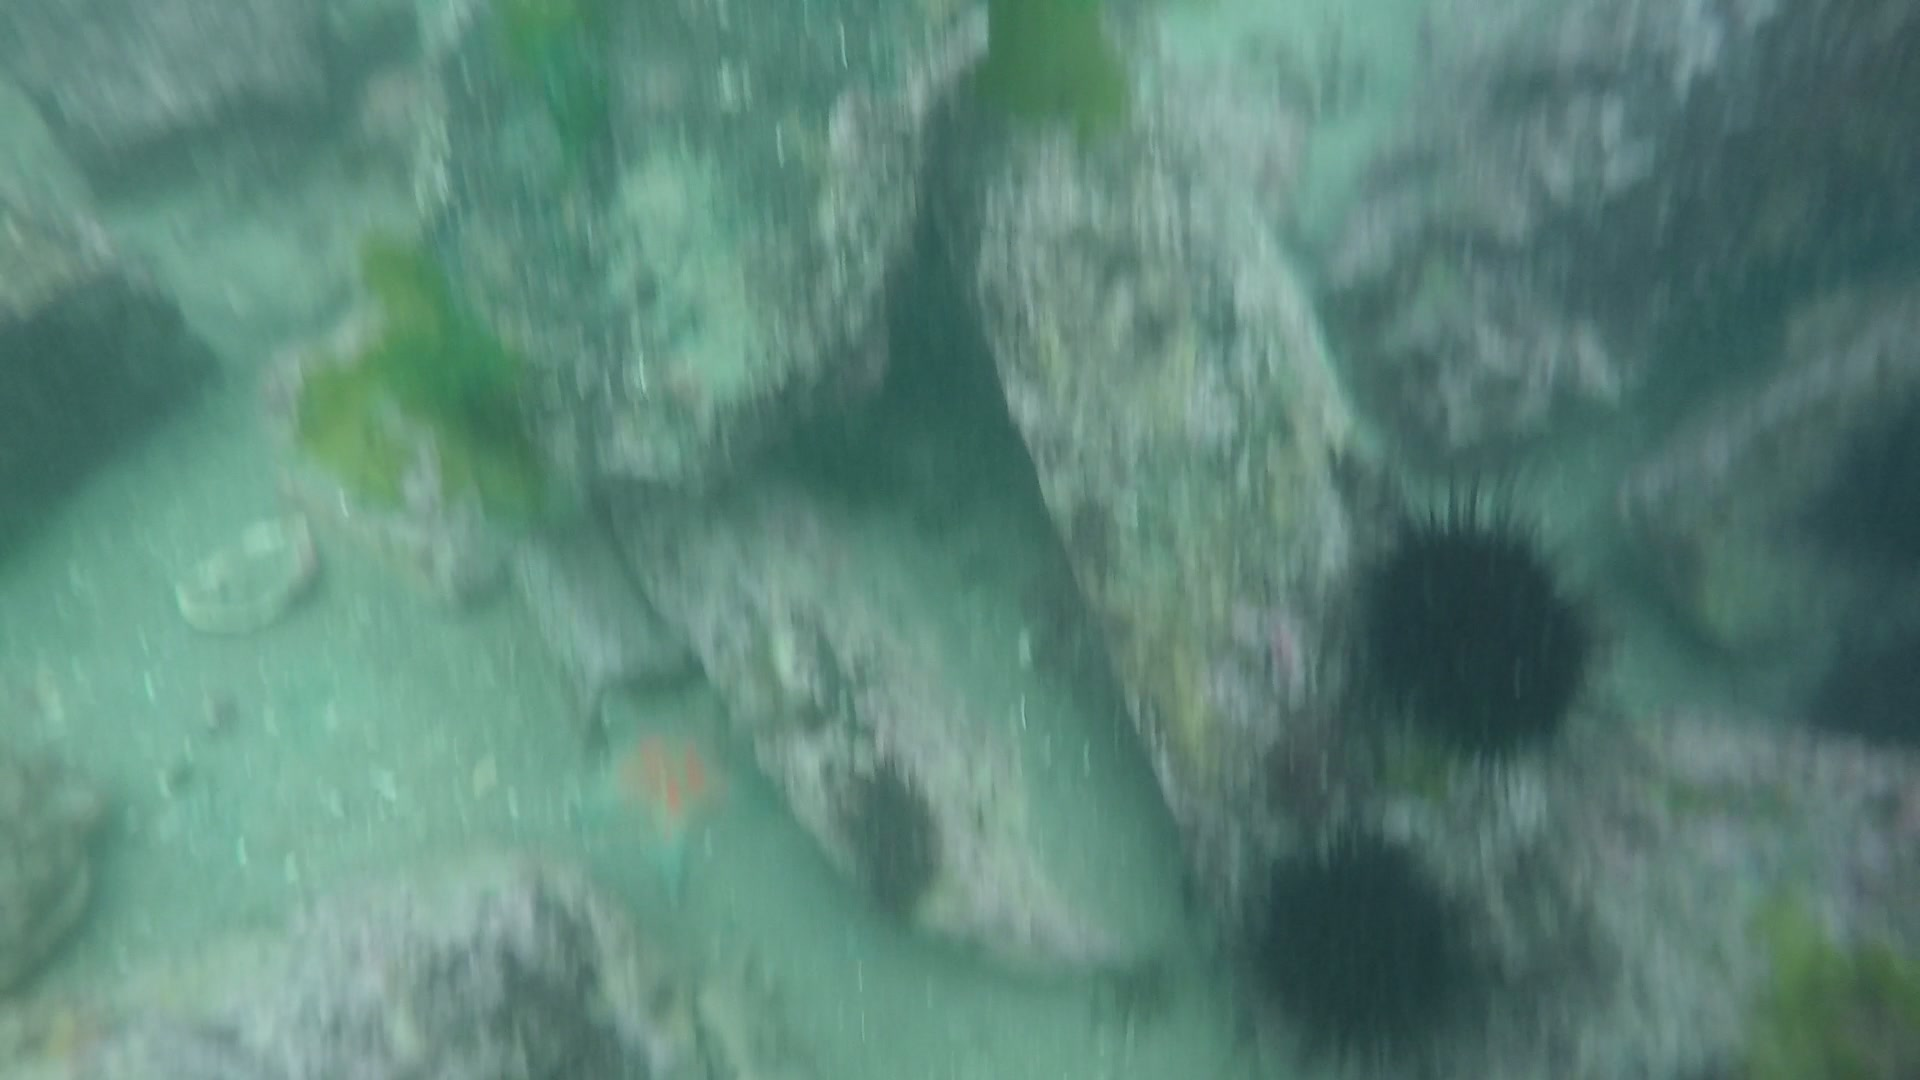echinus: (1336, 489, 1609, 802), (1244, 823, 1469, 1058), (840, 771, 945, 919)
starfish: (595, 684, 761, 894)
